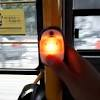bell: (38, 26, 66, 70)
